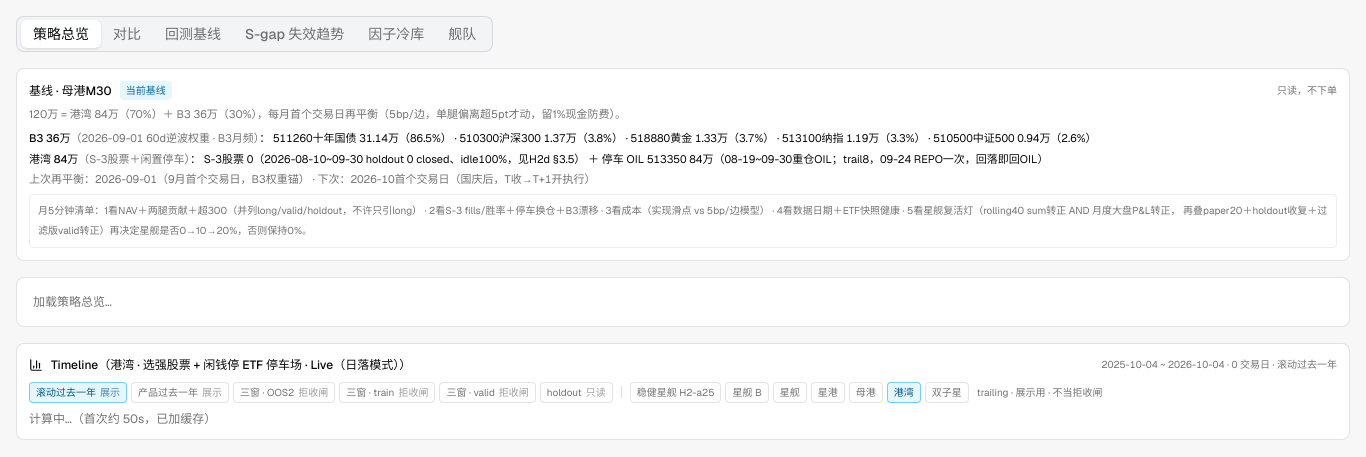
Scenario: BacktestPage vault tab › opens the 因子冷库 tab from the backtest page
Step 1. Click the button "因子冷库" → (396,34), box [356,20,436,48]
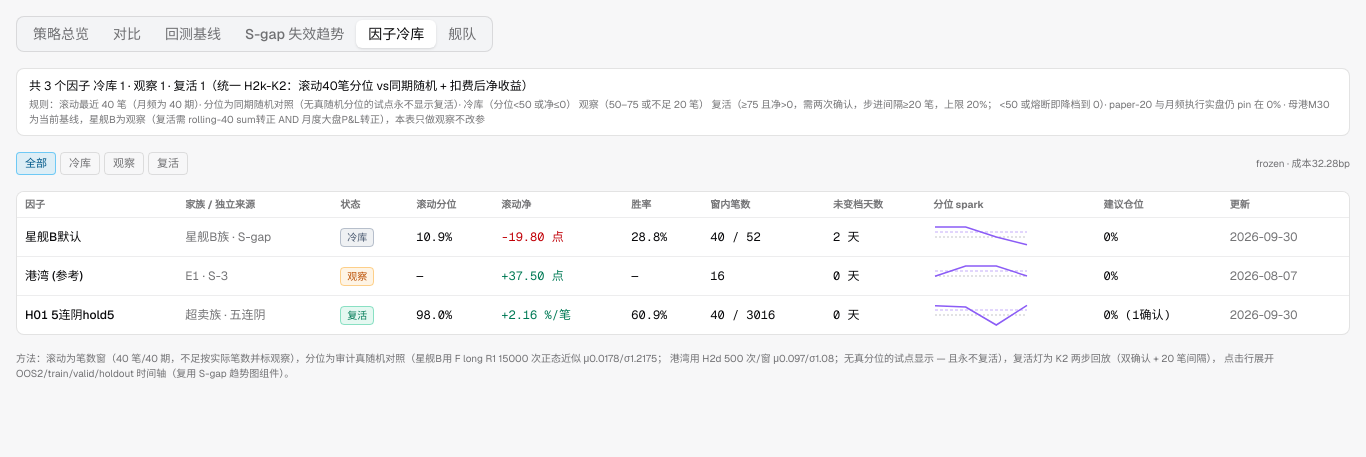
Expected: the element with test id "vault-summary" is shown, [16,68,1350,136]
Expected: the element with test id "vault-table" is shown, [16,190,1350,335]
